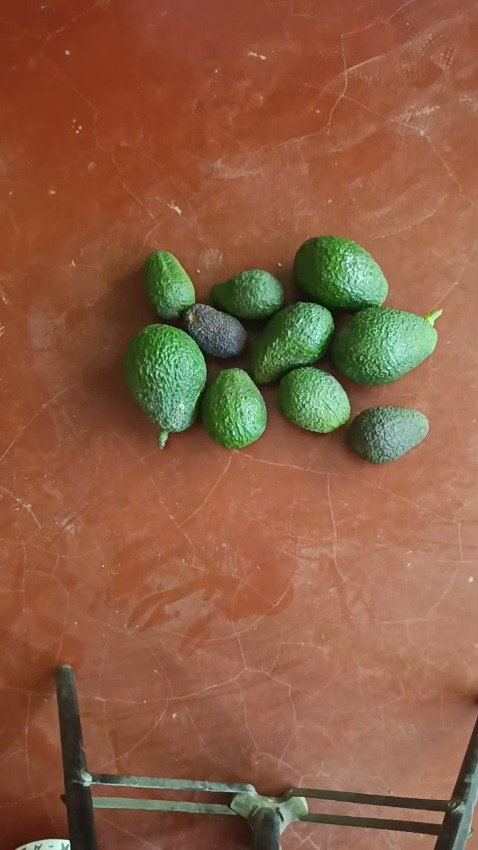Primera: (123, 324, 207, 444), (332, 304, 440, 386)
Segunda: (292, 236, 388, 313), (249, 302, 335, 385)
Tercera: (201, 367, 267, 448), (276, 365, 351, 432), (345, 404, 430, 463), (210, 269, 285, 321), (180, 303, 247, 360), (144, 250, 196, 321)
